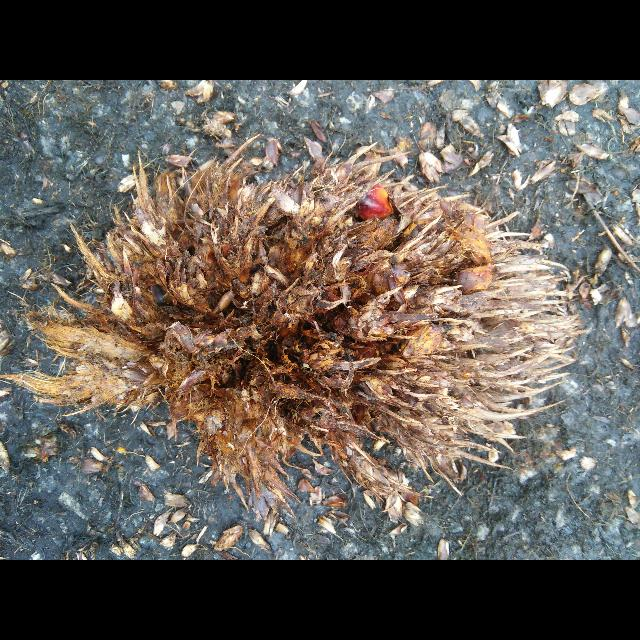Empty: (29, 141, 576, 524)
